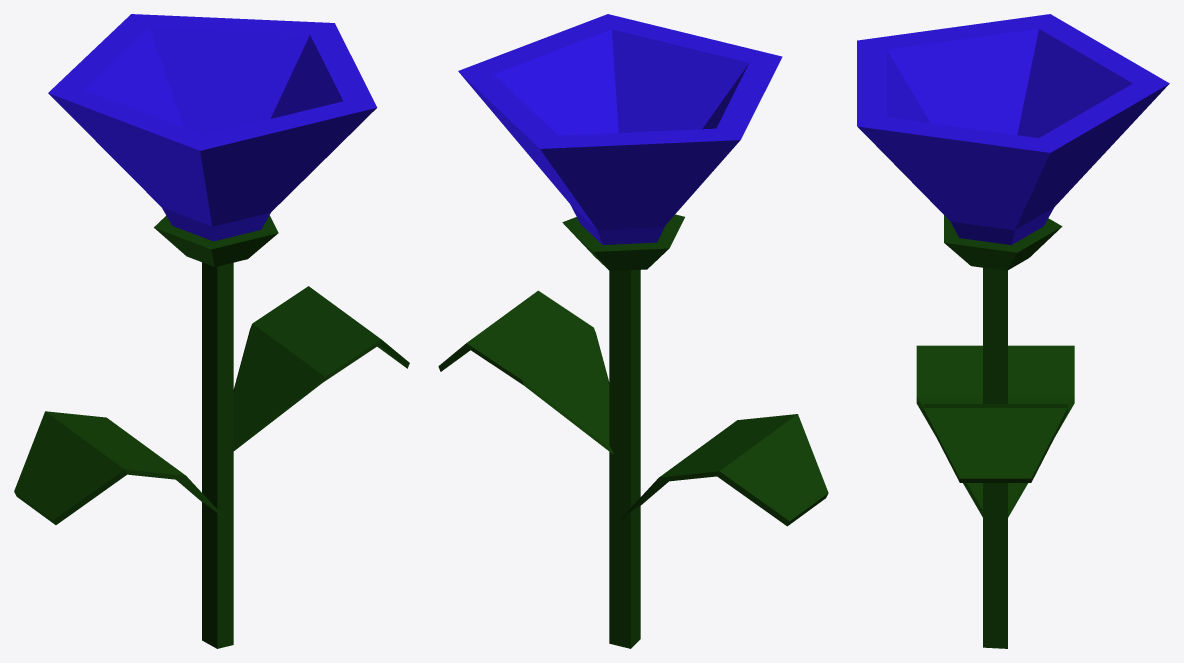
File: Flower_4.fbx
3 views of the same model, side by side, from view 1: azimuth 30°, elevation 25°; view 2: azimuth 150°, elevation 25°; view 3: azimuth 270°, elevation 25° (orthographic).
Parts seen in each view (by area): view 1: Flower_4; view 2: Flower_4; view 3: Flower_4.
Part boxes in pixels (left/top/right/bottom): Flower_4: left=14, top=14, right=409, bottom=648; Flower_4: left=438, top=14, right=828, bottom=648; Flower_4: left=857, top=14, right=1169, bottom=648.
Size of the model in its own units: 61.89 by 93.15 by 47.14.
